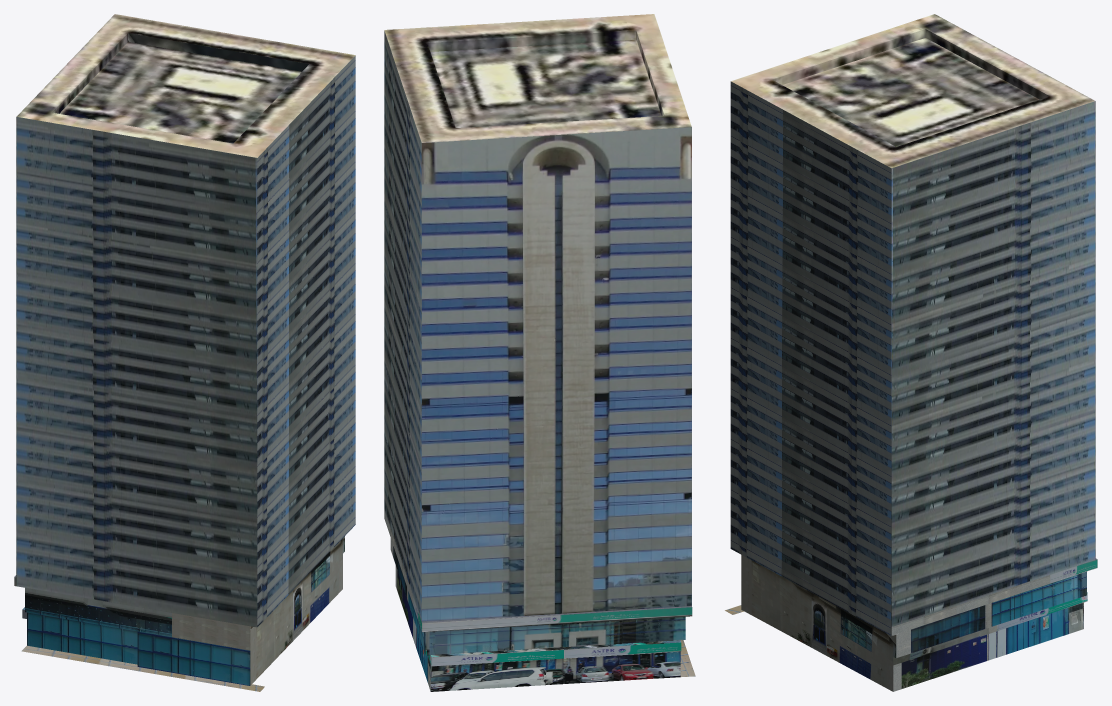
The model's file is hosp-l2.glb.
The picture shows the model from 3 angles, left to right: view 1: azimuth 30°, elevation 25°; view 2: azimuth 150°, elevation 25°; view 3: azimuth 270°, elevation 25°; orthographic projection. The views are drawn at different scales.
Parts seen in each view (by area): view 1: Object_3, Object_2, Object_30, Object_18, Object_19, Object_11, Object_12, Object_5, Object_21; view 2: Object_22, Object_30, Object_4, Object_15, Object_16, Object_31, Object_9, Object_8, Object_17, Object_32; view 3: Object_4, Object_2, Object_30, Object_11, Object_25, Object_32, Object_28, Object_24, Object_27, Object_10, Object_26, Object_23 (+1 smaller).
Part boxes in pixels (x1=…): Object_3: x1=14, y1=117, x2=257, y2=627; Object_2: x1=257, y1=55, x2=355, y2=626; Object_30: x1=16, y1=14, x2=355, y2=157; Object_18: x1=25, y1=592, x2=171, y2=664; Object_19: x1=137, y1=631, x2=250, y2=685; Object_11: x1=250, y1=536, x2=344, y2=678; Object_12: x1=172, y1=613, x2=250, y2=650; Object_5: x1=21, y1=645, x2=264, y2=691; Object_21: x1=25, y1=588, x2=171, y2=617; Object_22: x1=421, y1=127, x2=691, y2=621; Object_30: x1=384, y1=14, x2=691, y2=142; Object_4: x1=384, y1=31, x2=421, y2=620; Object_15: x1=430, y1=651, x2=680, y2=691; Object_16: x1=425, y1=616, x2=685, y2=655; Object_31: x1=422, y1=607, x2=692, y2=632; Object_9: x1=431, y1=649, x2=563, y2=666; Object_8: x1=564, y1=642, x2=681, y2=658; Object_17: x1=431, y1=640, x2=680, y2=657; Object_32: x1=384, y1=510, x2=413, y2=638; Object_4: x1=891, y1=101, x2=1095, y2=626; Object_2: x1=730, y1=81, x2=891, y2=635; Object_30: x1=731, y1=14, x2=1094, y2=168; Object_11: x1=751, y1=560, x2=896, y2=687; Object_25: x1=988, y1=602, x2=1083, y2=660; Object_32: x1=891, y1=575, x2=1049, y2=691; Object_28: x1=991, y1=571, x2=1086, y2=626; Object_24: x1=901, y1=634, x2=986, y2=688; Object_27: x1=911, y1=605, x2=985, y2=653; Object_10: x1=811, y1=598, x2=826, y2=655; Object_26: x1=893, y1=628, x2=988, y2=665; Object_23: x1=997, y1=592, x2=1087, y2=630.
Size of the model in its own units: 37.67 by 60 by 38.32.
Materials: 32 (30 with a texture image).
